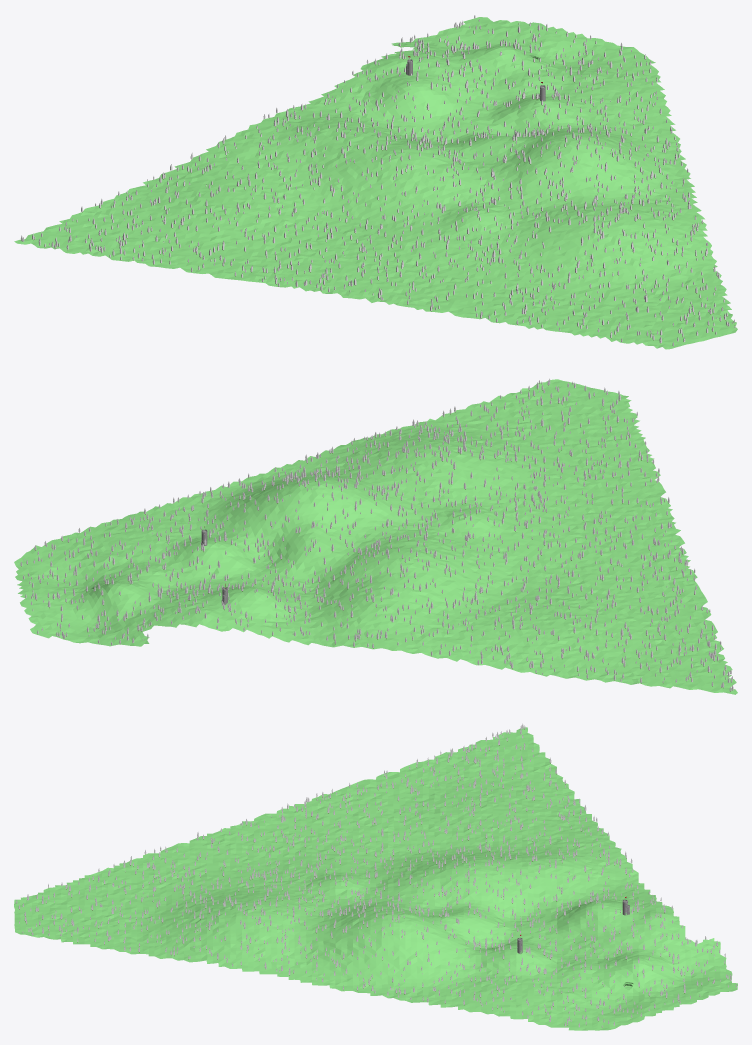
Rendered from uploads_files_1877057_Forestlight.fbx.
3 renders of one model, top to bottom at view 1: azimuth 30°, elevation 25°; view 2: azimuth 150°, elevation 25°; view 3: azimuth 270°, elevation 25°, orthographic. The views are drawn at different scales.
Parts seen in each view (by area): view 1: Plane; view 2: Plane; view 3: Plane.
Part boxes in pixels (x1=…): Plane: x1=14, y1=17, x2=737, y2=349; Plane: x1=14, y1=379, x2=737, y2=694; Plane: x1=14, y1=727, x2=737, y2=1030.
Size of the model in its own units: 7409 by 511 by 7466.
